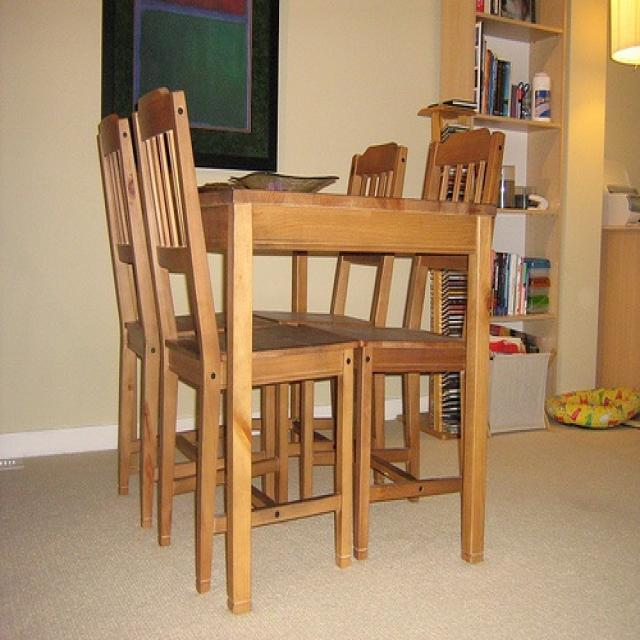chair: (130, 88, 356, 597), (297, 129, 507, 561), (97, 114, 276, 532), (255, 143, 410, 498)
diningtable: (201, 187, 499, 615)
